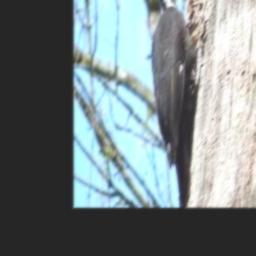Woodpecker: (145, 0, 200, 168)
